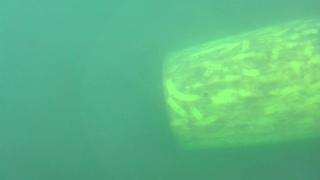pipe: (161, 14, 320, 151)
